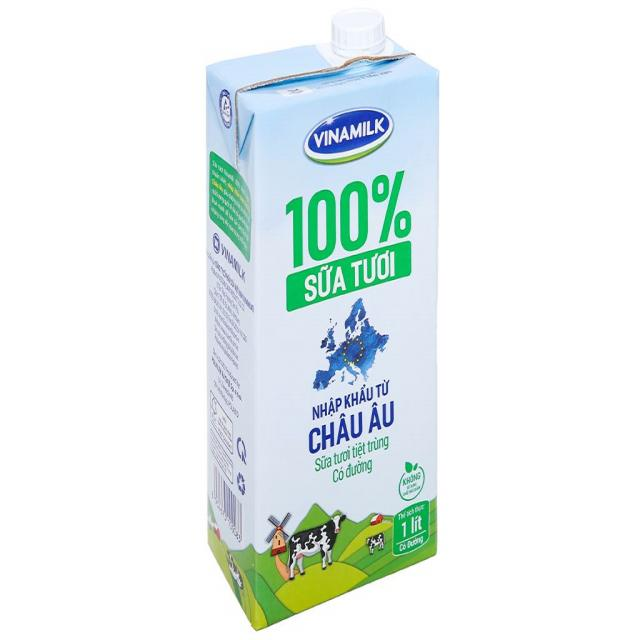non_white_jug: (190, 8, 458, 627)
